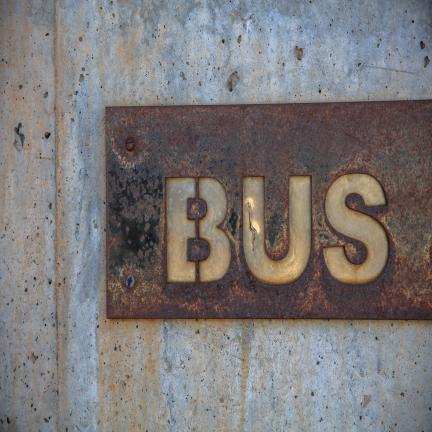besi_tidak_karat: (3, 6, 105, 431), (106, 321, 429, 431), (109, 3, 430, 108)
karat: (109, 110, 431, 169), (105, 279, 432, 316), (109, 174, 163, 278), (393, 174, 432, 271)
